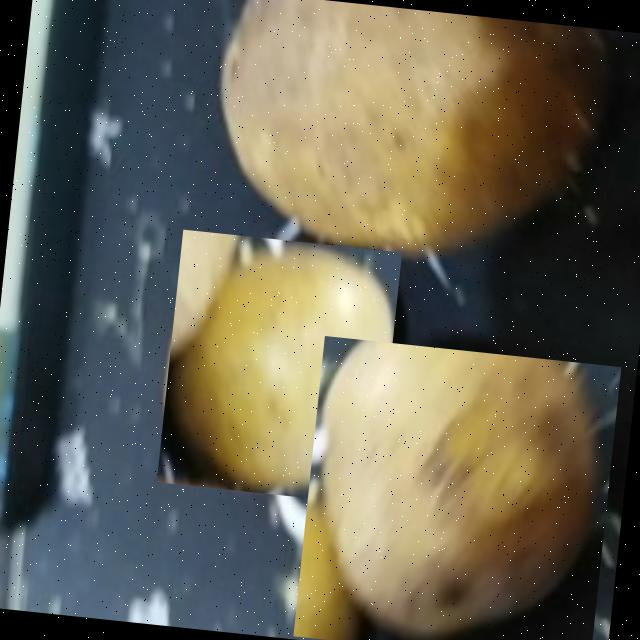Damaged potato: (203, 0, 624, 284), (293, 335, 621, 640)
Potato: (156, 228, 402, 504)
